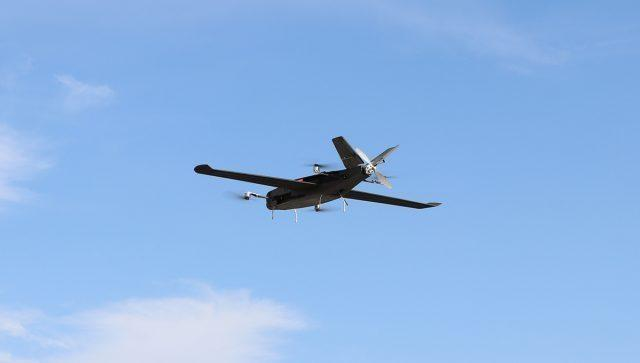Airplane: (180, 113, 448, 250)
